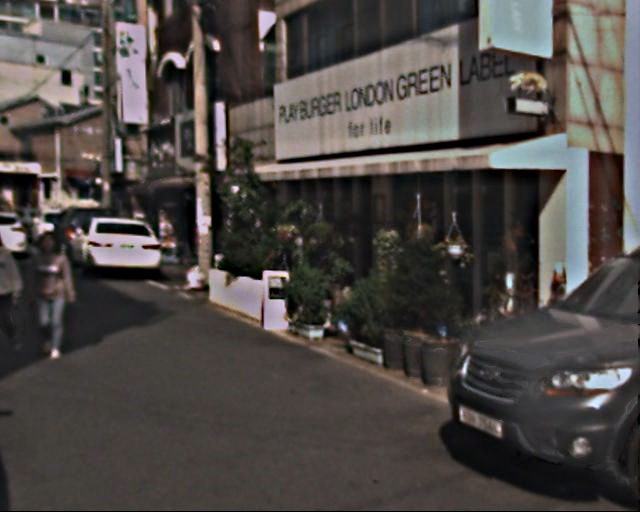person: (29, 226, 82, 357)
